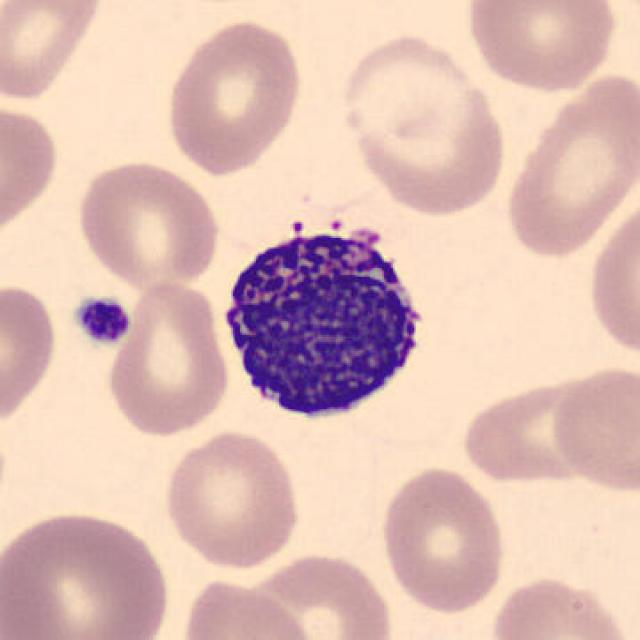Basophil: (213, 203, 439, 432)
Platelets: (69, 293, 135, 347)
RBC: (334, 28, 512, 219), (500, 67, 638, 263), (0, 504, 176, 640), (162, 14, 306, 178), (103, 277, 233, 441), (158, 427, 304, 571), (375, 462, 510, 617), (71, 155, 224, 291), (457, 371, 617, 488), (460, 0, 620, 95), (238, 548, 398, 640), (548, 360, 638, 497), (0, 0, 107, 104), (487, 571, 635, 640), (0, 278, 60, 433), (585, 190, 638, 365), (176, 575, 318, 640), (0, 98, 62, 242), (581, 0, 640, 21)
